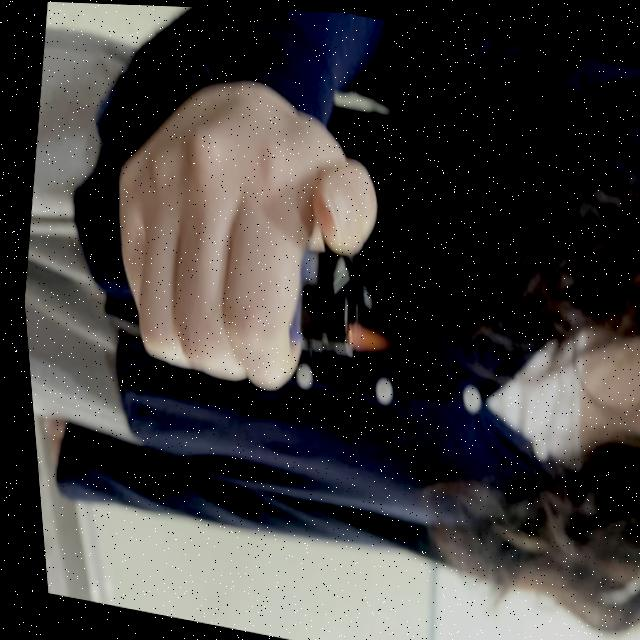Fire: (337, 312, 391, 365)
